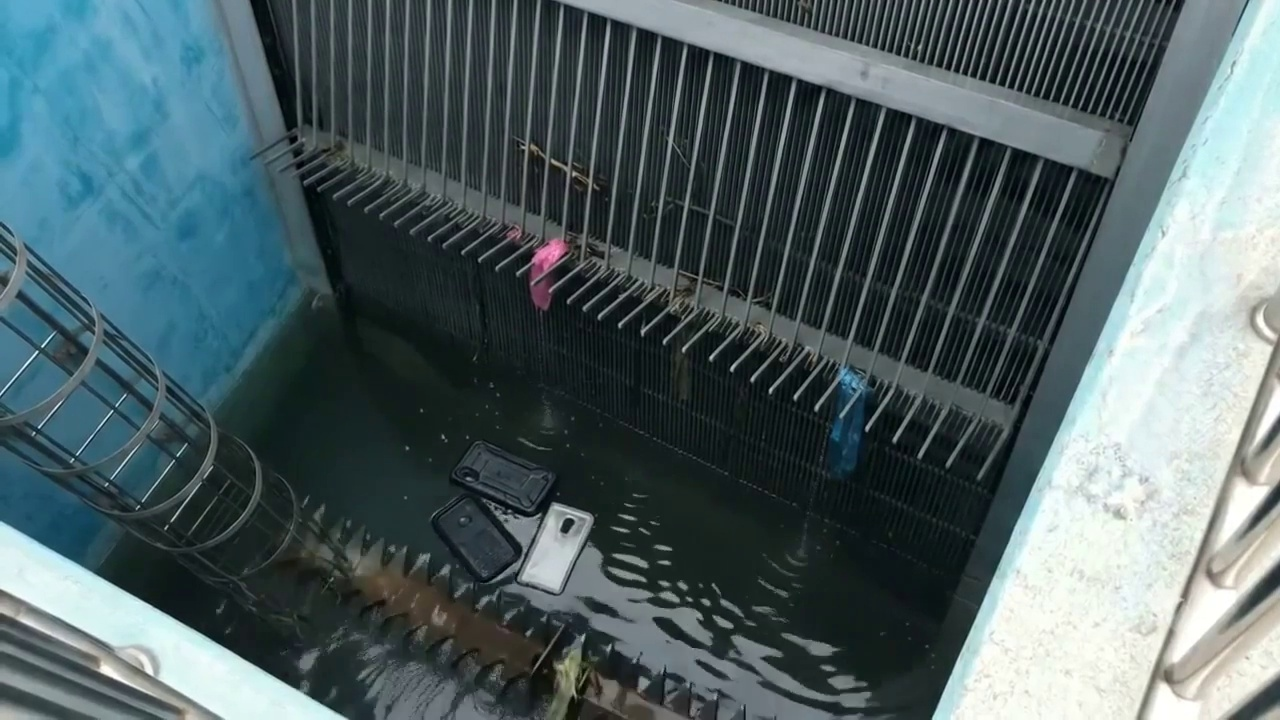debris: (431, 441, 593, 592), (828, 370, 866, 478), (530, 239, 567, 309)
